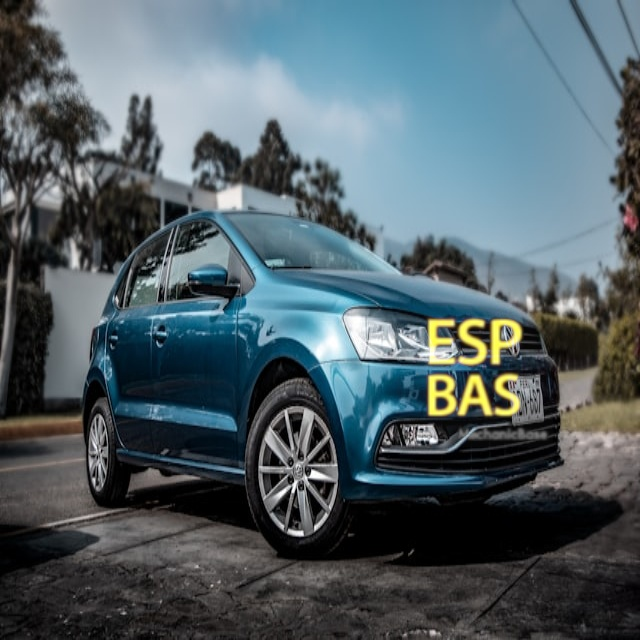symbol: (397, 291, 553, 447)
